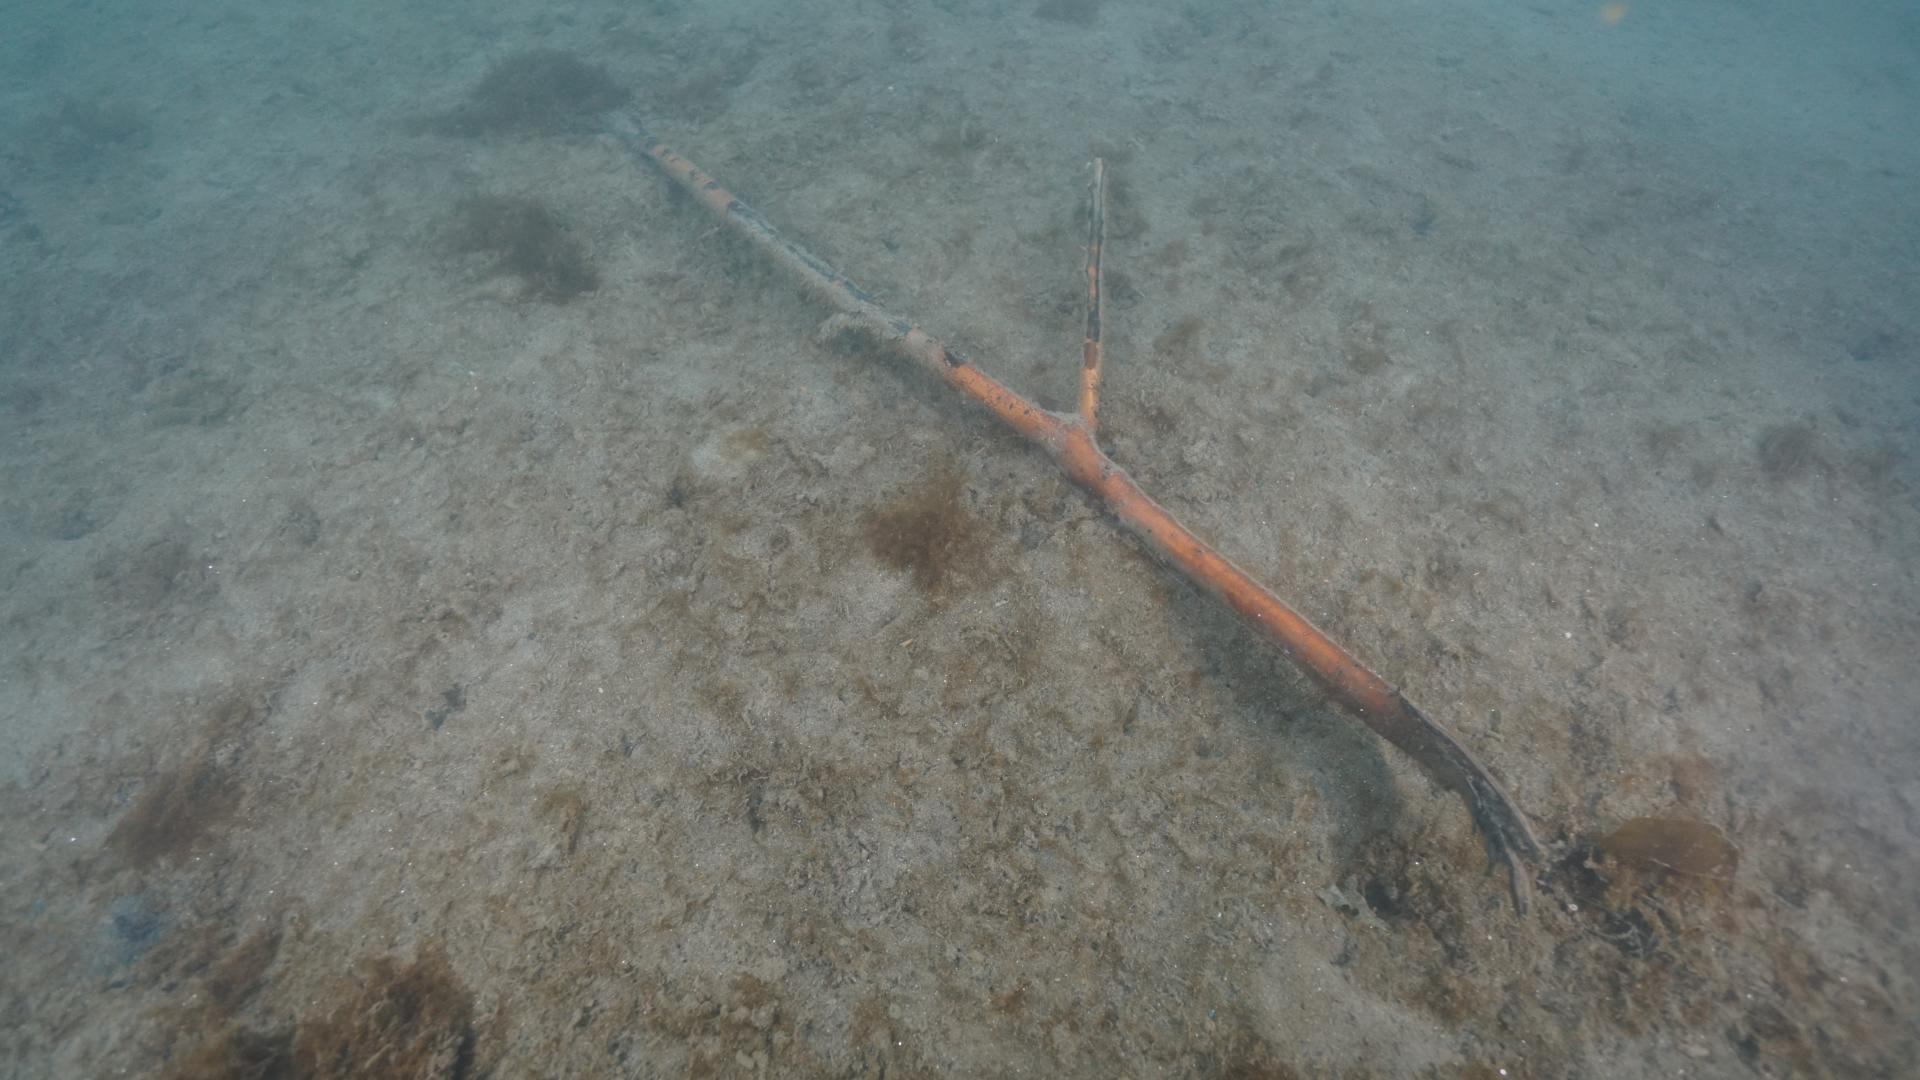wood: (634, 132, 1548, 864)
